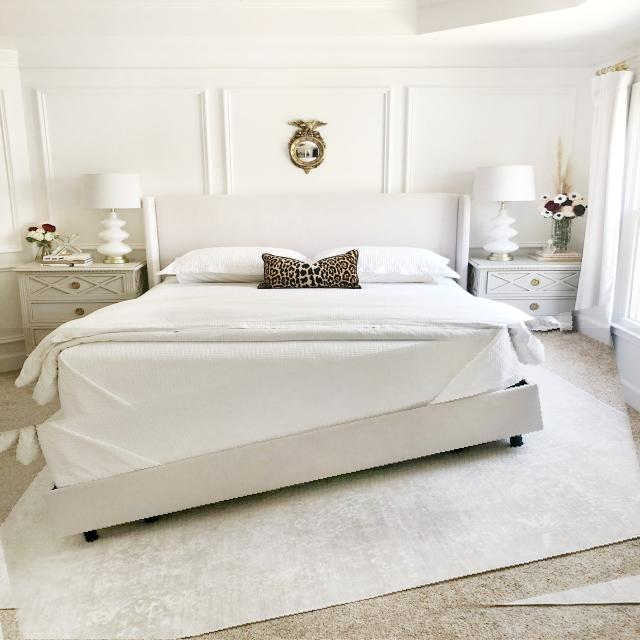floor: (0, 329, 640, 640), (0, 432, 1, 434)
